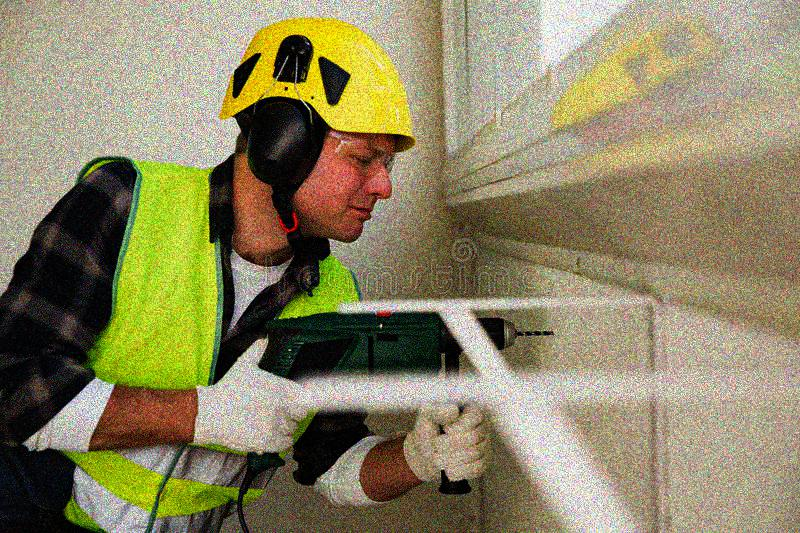helmet: (221, 14, 417, 246)
